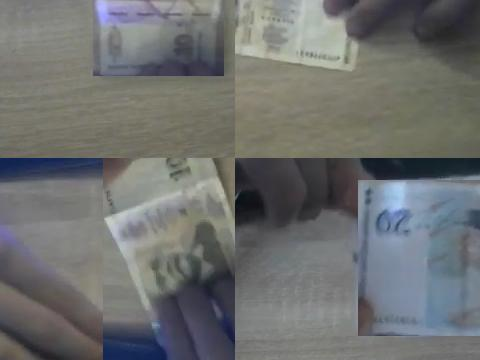10leva: (103, 158, 235, 360), (94, 0, 220, 76)
20leva: (358, 180, 480, 331)
